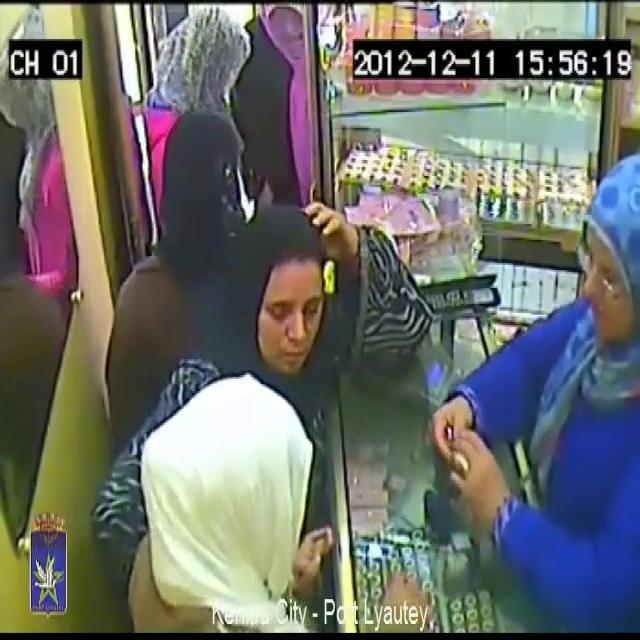normal: (426, 186, 639, 640), (118, 375, 337, 640), (235, 210, 365, 418), (166, 108, 261, 283), (242, 0, 317, 132)
shoplifting: (142, 0, 255, 114)
